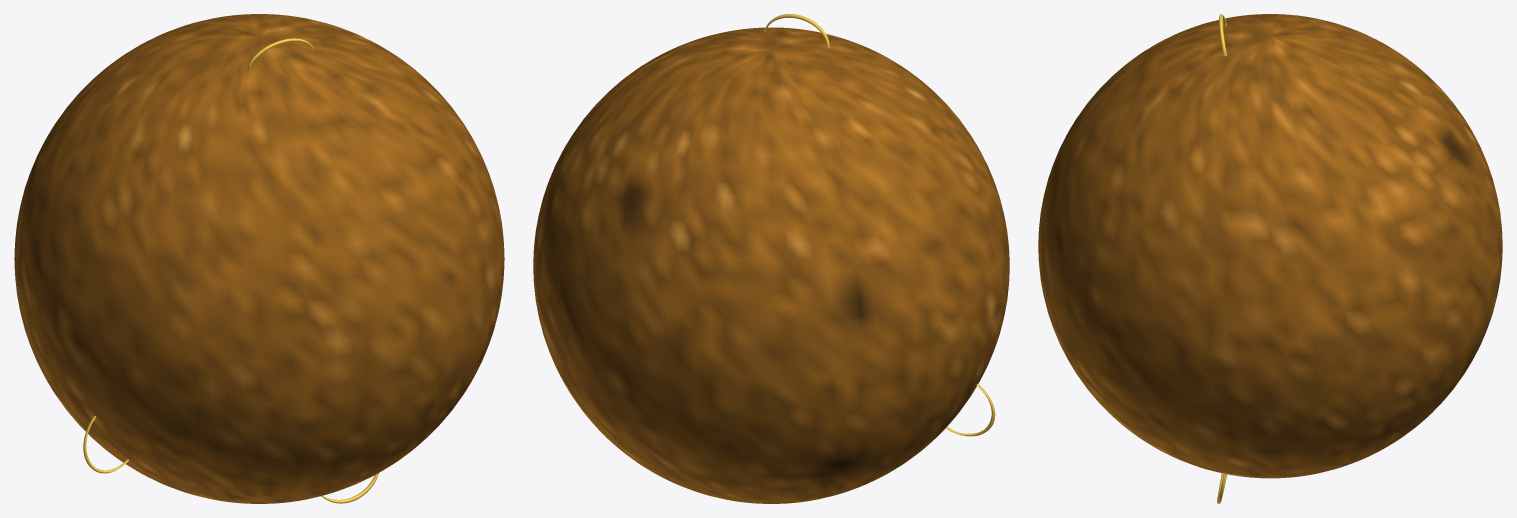
File: Star_42.fbx
The picture shows the model from 3 angles, left to right: view 1: azimuth 30°, elevation 25°; view 2: azimuth 150°, elevation 25°; view 3: azimuth 270°, elevation 25°; orthographic projection. The views are drawn at different scales.
Parts seen in each view (by area): view 1: Star_42; view 2: Star_42; view 3: Star_42.
Boxes of the visible parts, x1,y1,x2,y2 form: Star_42: [14, 14, 504, 503]; Star_42: [533, 14, 1009, 503]; Star_42: [1038, 14, 1502, 503].
Size of the model in its own units: 200 by 215 by 200.
